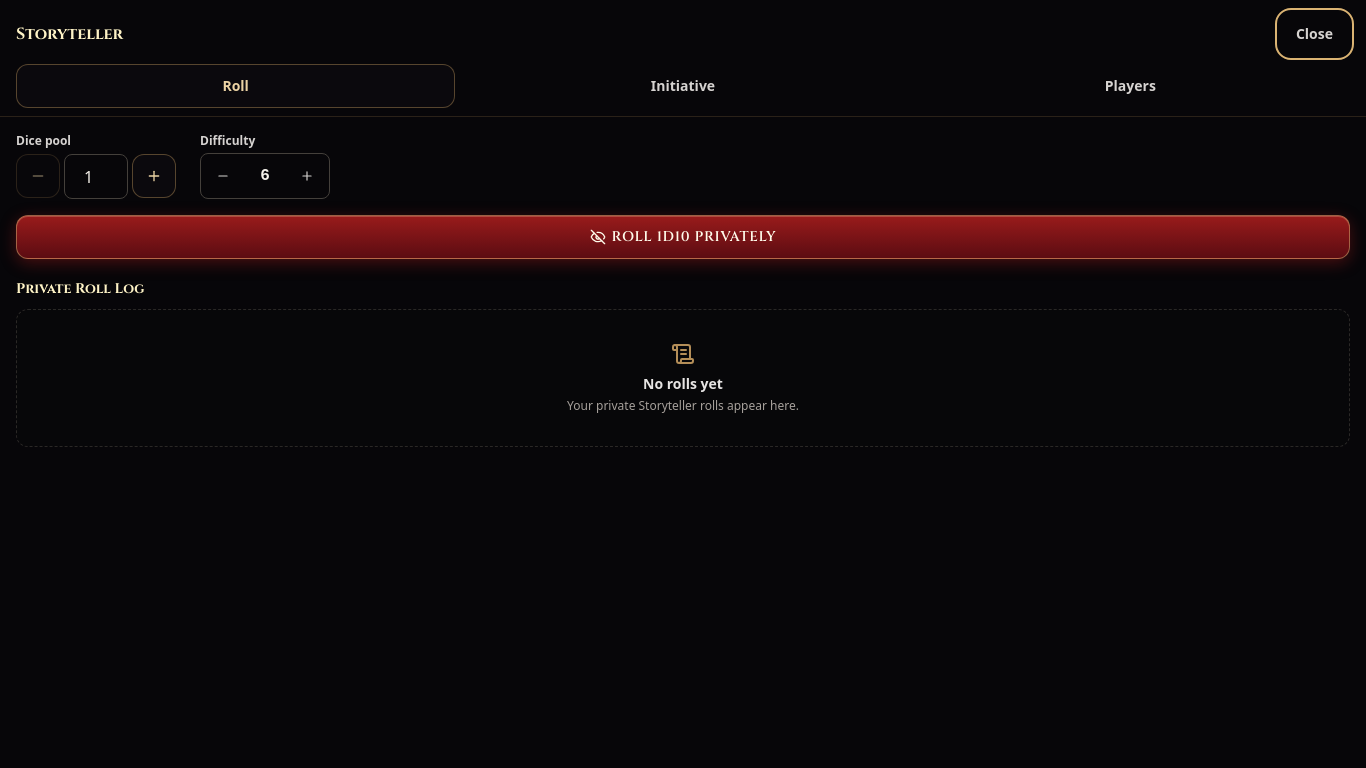
StorytellerPanel › submits exact pool and difficulty privately and renders server dice without Roll again
Later steps or results of the test are not shown.
What coordinates should you click on to do the following:
click the button named "Increase dice pool"
I would click on:
 (154, 176)
Its box is [132,154,176,198].
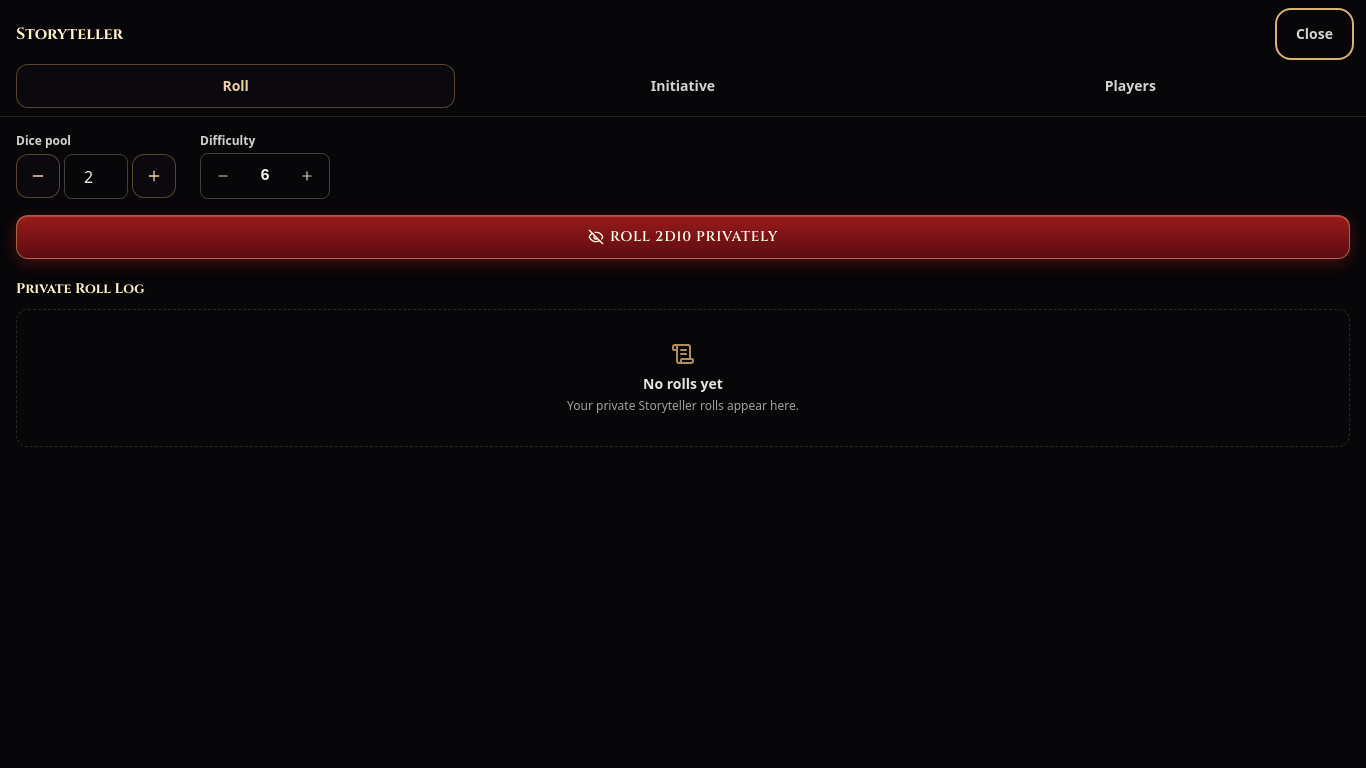
Now the number field labelled "Dice pool" holds "2", box [64,154,128,199]
